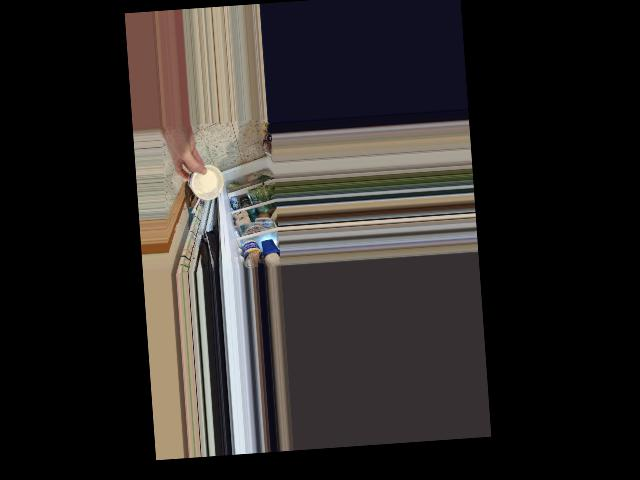cotage: (184, 161, 221, 201)
